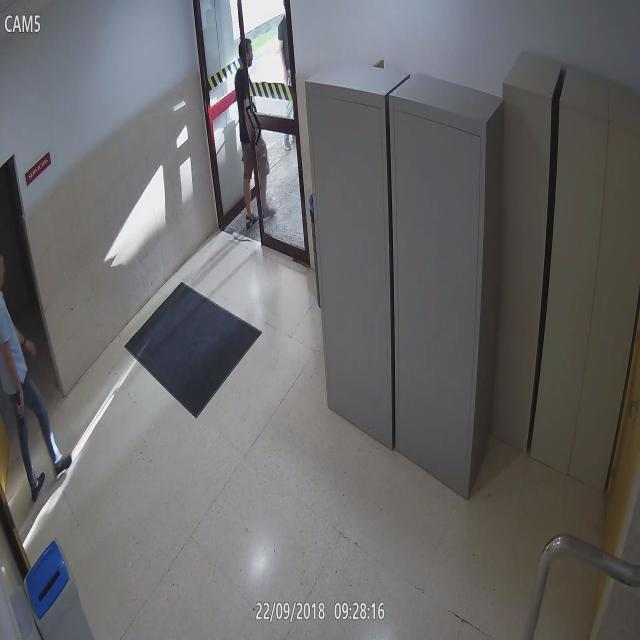weapon: (19, 400, 25, 428)
